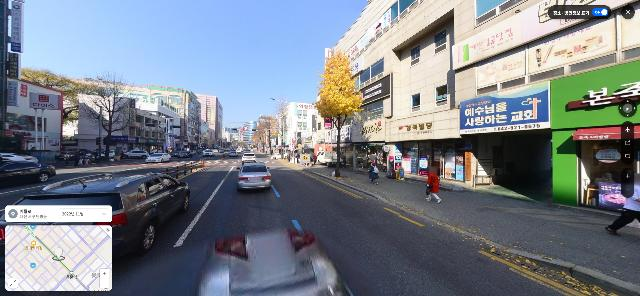ginkgo: (315, 51, 363, 178)
other: (82, 65, 132, 163), (278, 95, 296, 161)
